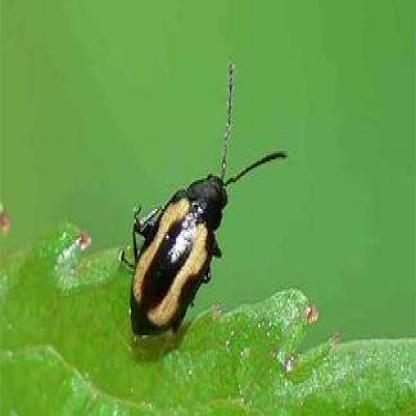beetle: (121, 58, 290, 336)
